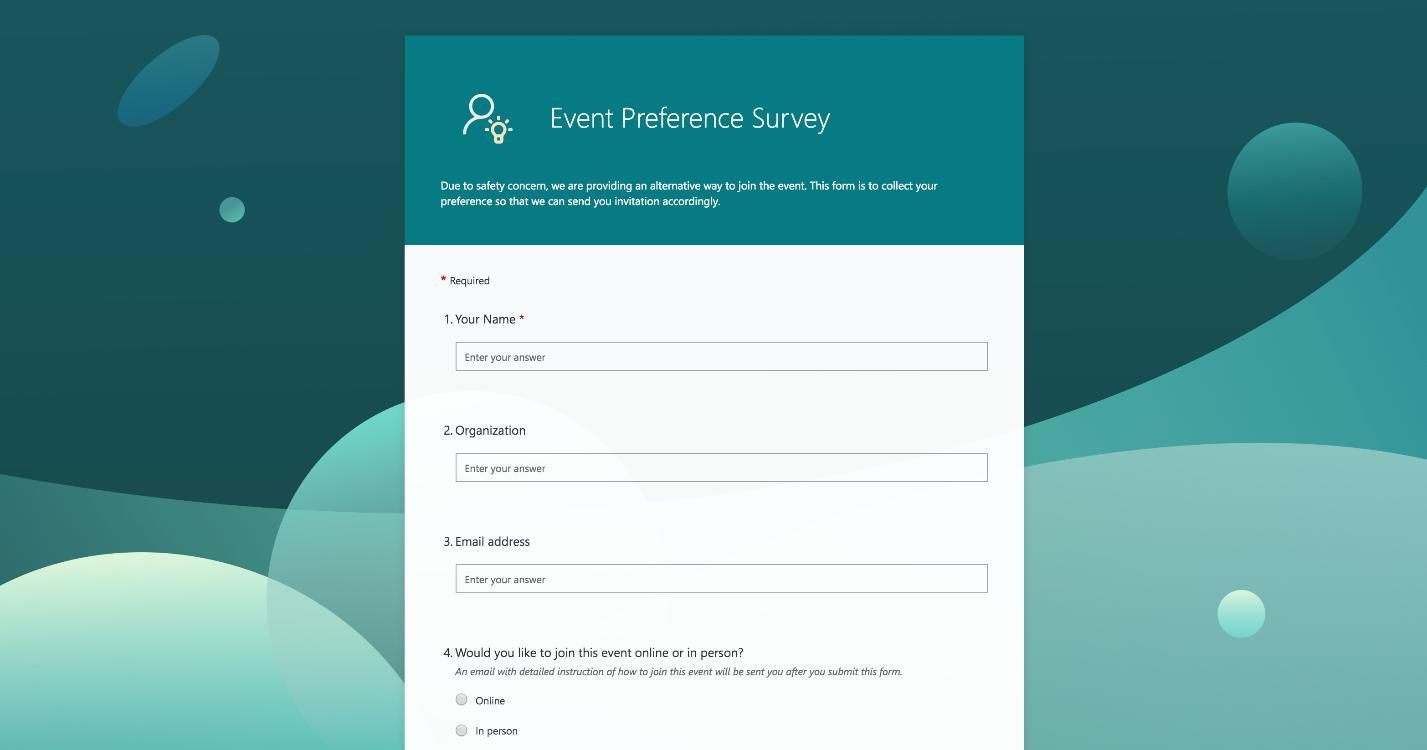input: (457, 454, 989, 483), (457, 565, 989, 593), (456, 344, 988, 371)
label: (445, 642, 743, 665), (445, 306, 531, 333), (436, 532, 537, 554), (440, 422, 532, 444), (475, 724, 520, 744), (476, 693, 511, 712)
radio: (455, 724, 470, 738), (456, 694, 468, 708)
